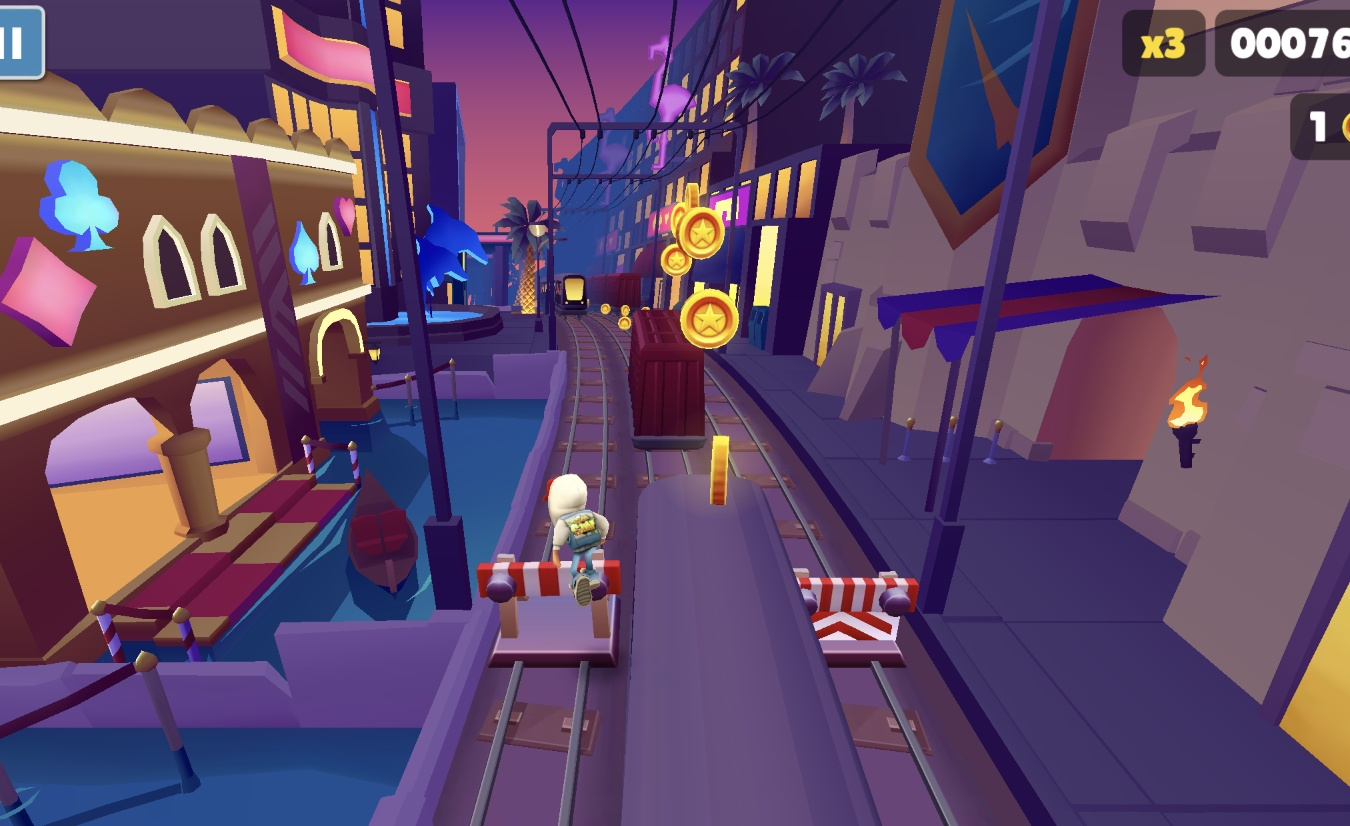ground_barrier: (477, 558, 634, 672), (797, 573, 920, 671)
train: (618, 469, 872, 826), (627, 316, 709, 453), (589, 273, 647, 323), (555, 273, 589, 313)
